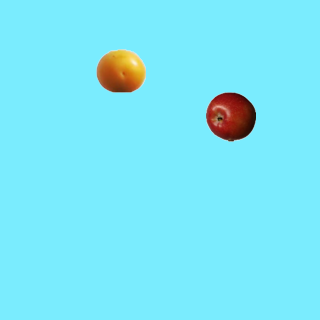Apple Braeburn: (205, 91, 255, 141)
Cherry Wax Yellow: (95, 45, 145, 95)
